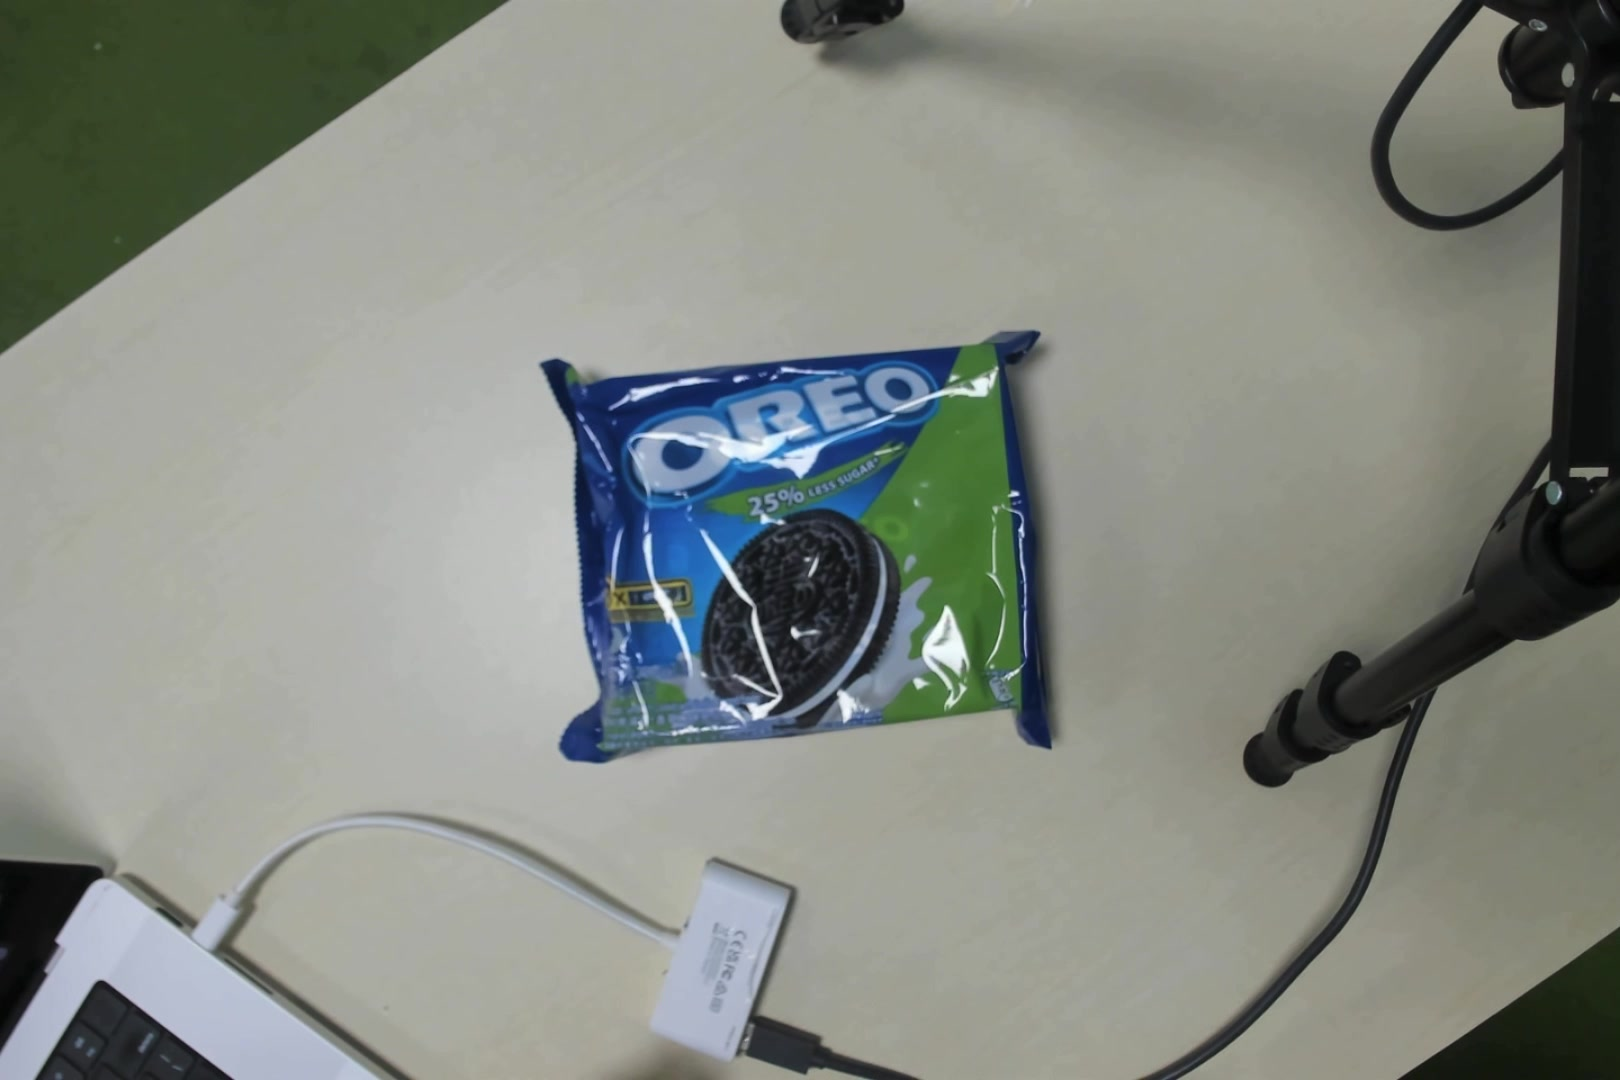SweetsChocolatesOthers_200-299g_Halal_NonHealthy: (563, 328, 1033, 763)
